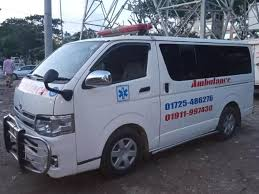Ambulance: (5, 16, 251, 183)
private car: (11, 60, 40, 81)
